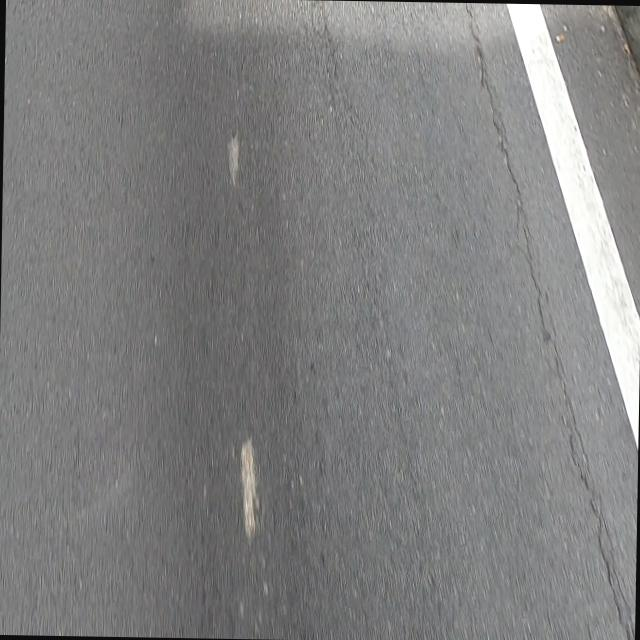Retak-Memanjang: (465, 2, 591, 478), (568, 440, 621, 630)
